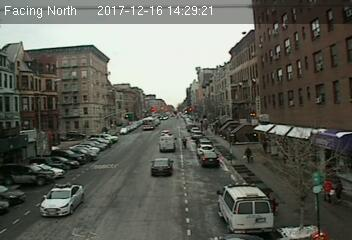bicycle: (181, 136, 188, 150)
car: (150, 157, 174, 175), (200, 152, 220, 166)
police: (216, 181, 275, 234), (39, 182, 85, 218)
